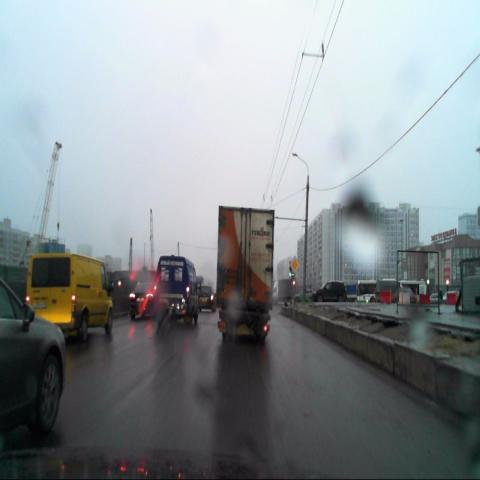2_1: (290, 254, 300, 272)
